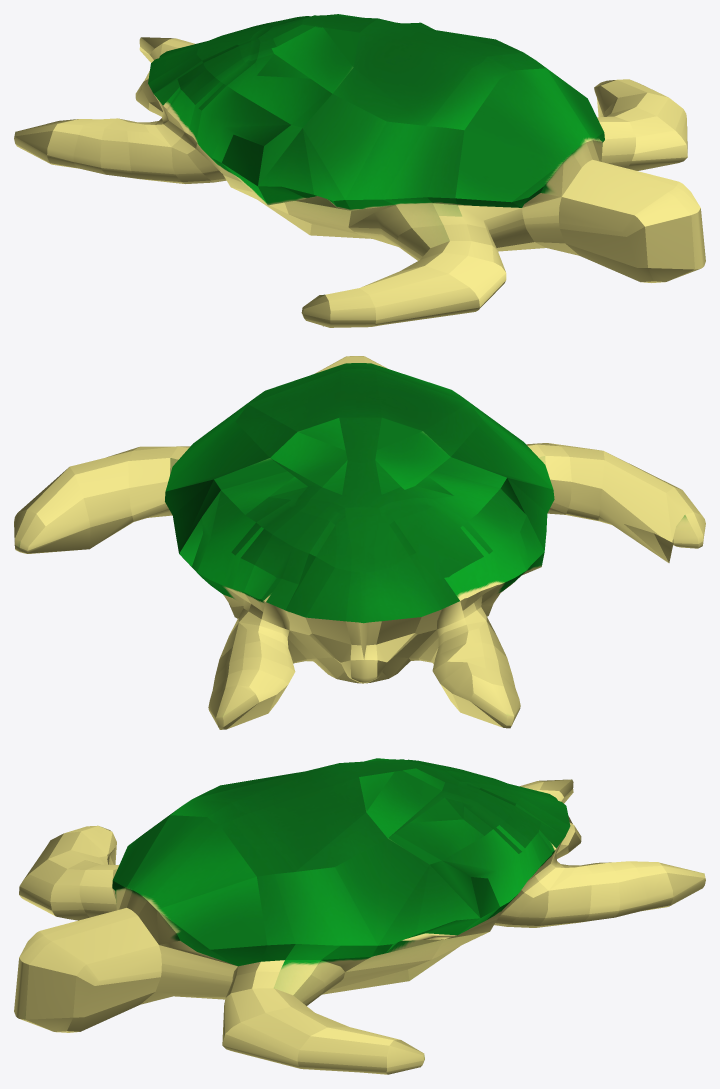
The model's file is TurtlesHatchingLeft.fbx.
The picture shows the model from 3 angles, top to bottom: view 1: azimuth 30°, elevation 25°; view 2: azimuth 150°, elevation 25°; view 3: azimuth 270°, elevation 25°; orthographic projection. The views are drawn at different scales.
Parts seen in each view (by area): view 1: TurtleHatchLeft; view 2: TurtleHatchLeft; view 3: TurtleHatchLeft.
Boxes of the visible parts, box(x1,y1,x2,y2) form: TurtleHatchLeft: box(14, 14, 705, 327); TurtleHatchLeft: box(14, 356, 705, 729); TurtleHatchLeft: box(14, 758, 705, 1074).
Size of the model in its own units: 11.58 by 4.28 by 12.75.
